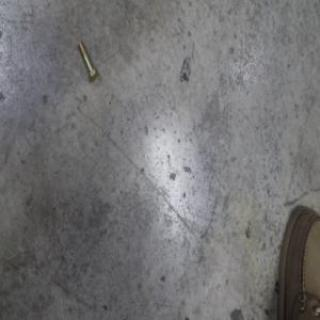Bolttrack_idkeyframe: (75, 39, 96, 84)
